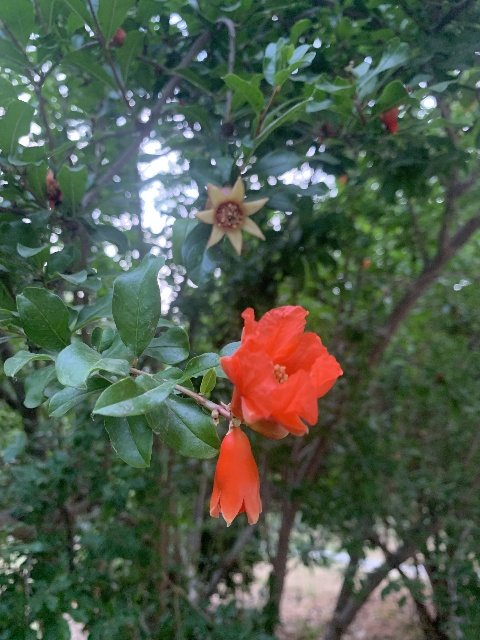bud: (245, 418, 289, 440)
early-fruit: (192, 173, 269, 255)
flower: (220, 304, 343, 438), (209, 427, 262, 526), (380, 105, 401, 134)
